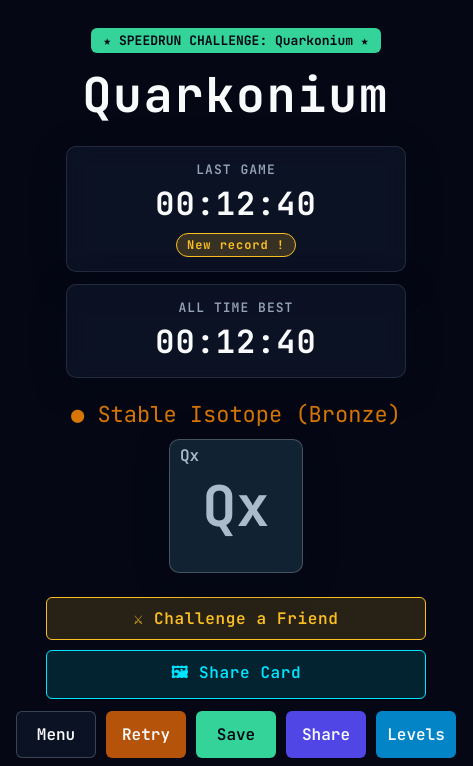
Test: LevelFinished component › Shared custom level mode › saves level to custom levels and shows confirmation toast when "Save" is clicked
Click the button "Save". click: x=236, y=734
box: x1=196 y1=711 x2=276 y2=758
(page scrolled)
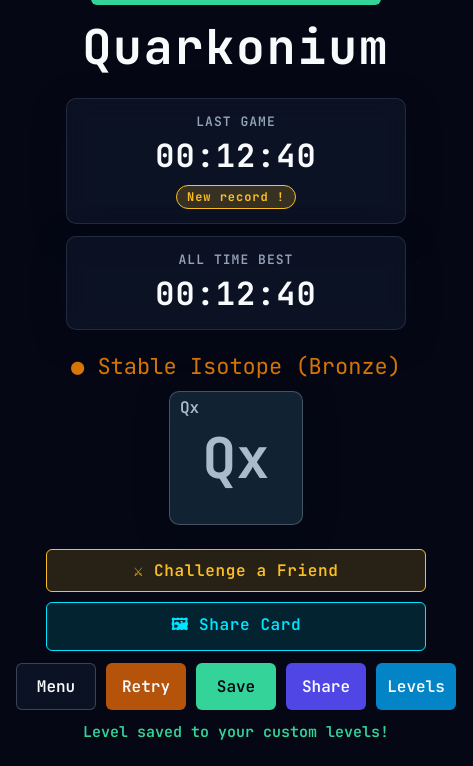
Expected: the text "Level saved to your custom levels!" is shown, x1=83 y1=722 x2=389 y2=742
